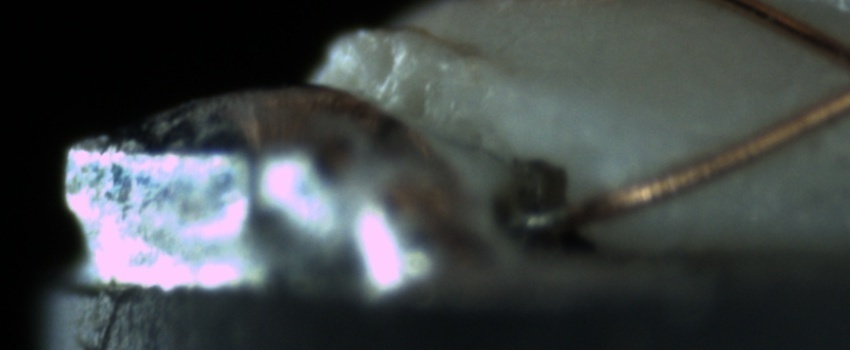TS: (517, 197, 571, 237)
